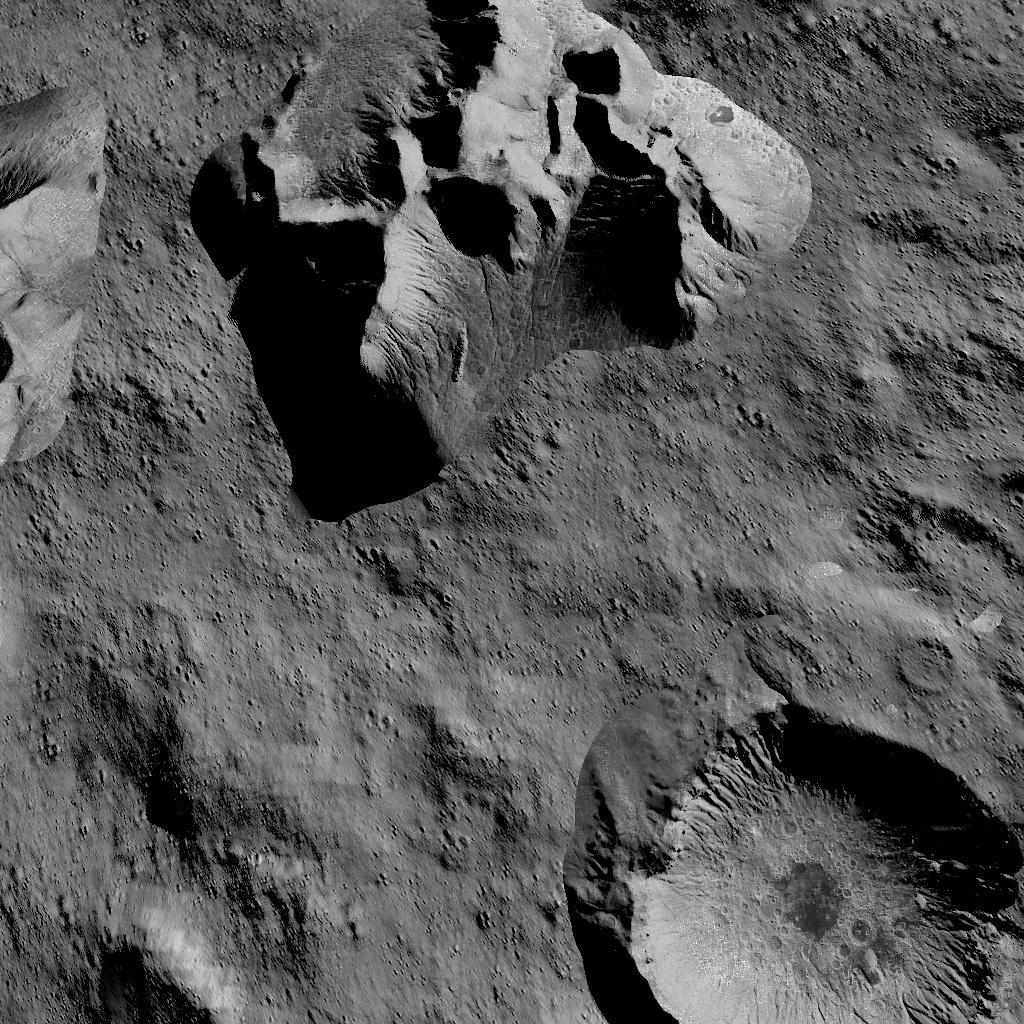Boulders: (181, 0, 830, 516), (75, 680, 318, 880), (0, 52, 100, 462)
Crater: (552, 634, 1024, 1024), (0, 911, 322, 1018)
Plan surface: (29, 524, 537, 662), (348, 683, 536, 1024)
